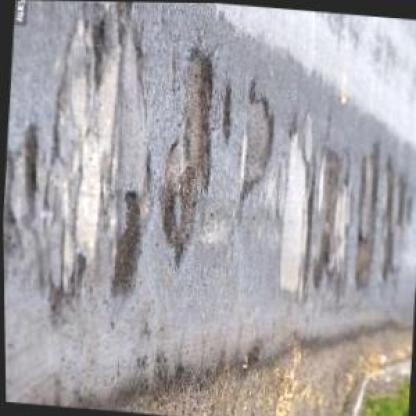pothole: (150, 43, 220, 270), (232, 74, 280, 202), (306, 144, 344, 290), (350, 137, 386, 290), (104, 189, 146, 302), (373, 152, 399, 278), (218, 80, 236, 146)
